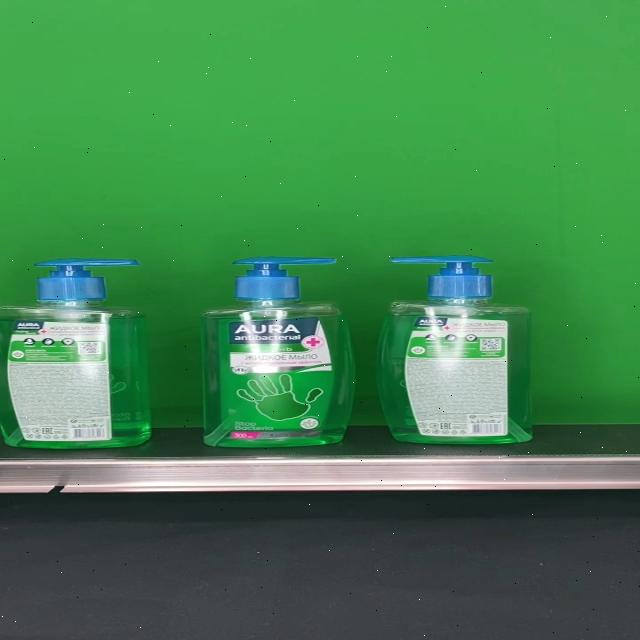Bottle: (376, 256, 534, 444), (202, 256, 356, 448), (0, 258, 152, 449)
Cap: (389, 256, 494, 299), (233, 256, 336, 299), (34, 258, 138, 300)
